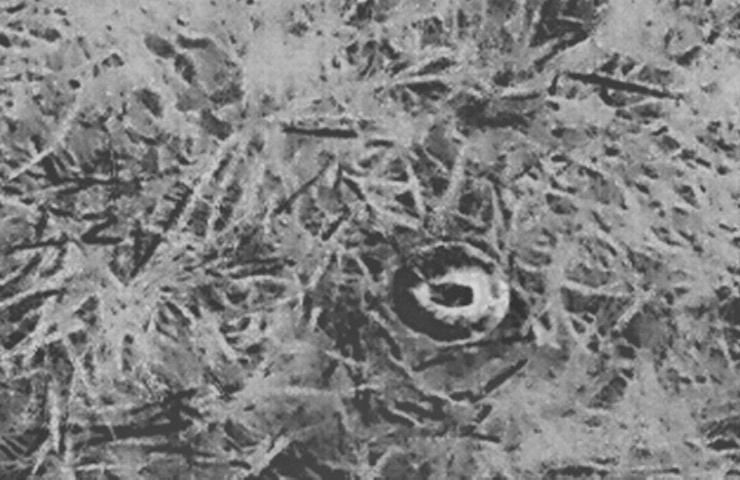landmines: (374, 229, 522, 360)
